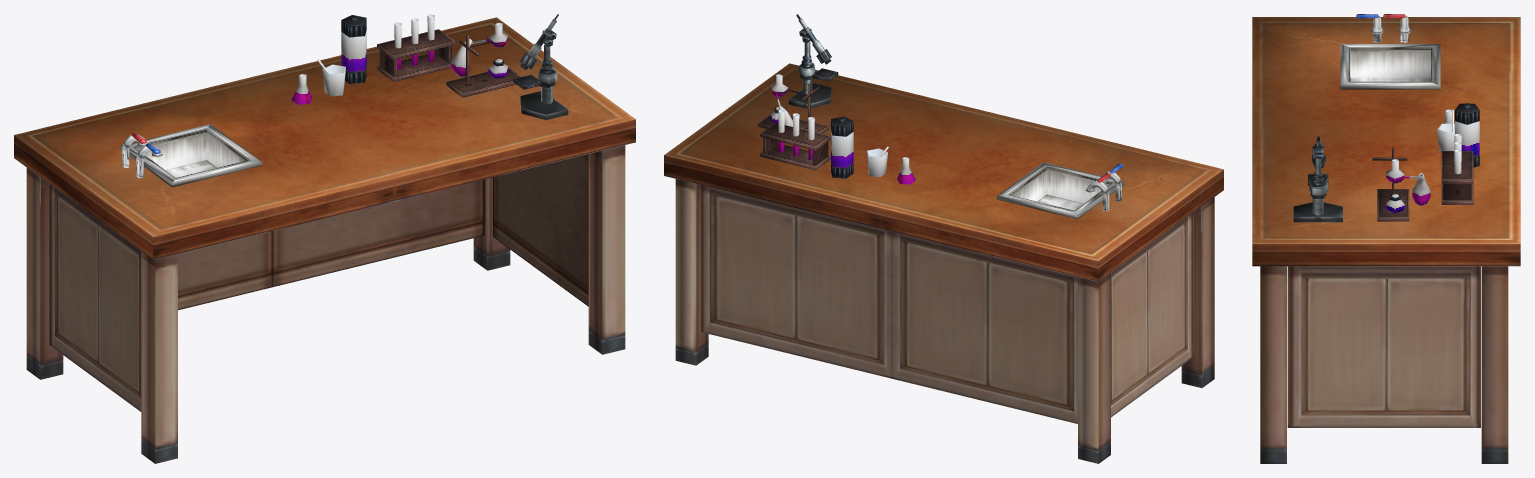
The model's file is a_SCdest05.glb.
3 renders of one model, left to right at view 1: azimuth 30°, elevation 25°; view 2: azimuth 150°, elevation 25°; view 3: azimuth 270°, elevation 25°, orthographic. The views are drawn at different scales.
Visible parts, largest first — view 1: a_SCdest05; view 2: a_SCdest05; view 3: a_SCdest05.
Part boxes in pixels (bbox=[...]): a_SCdest05: bbox=[14, 14, 635, 463]; a_SCdest05: bbox=[664, 14, 1223, 463]; a_SCdest05: bbox=[1252, 14, 1520, 463].
Size of the model in its own units: 2 by 1.28 by 1.
Materials: 6 (6 with a texture image).
